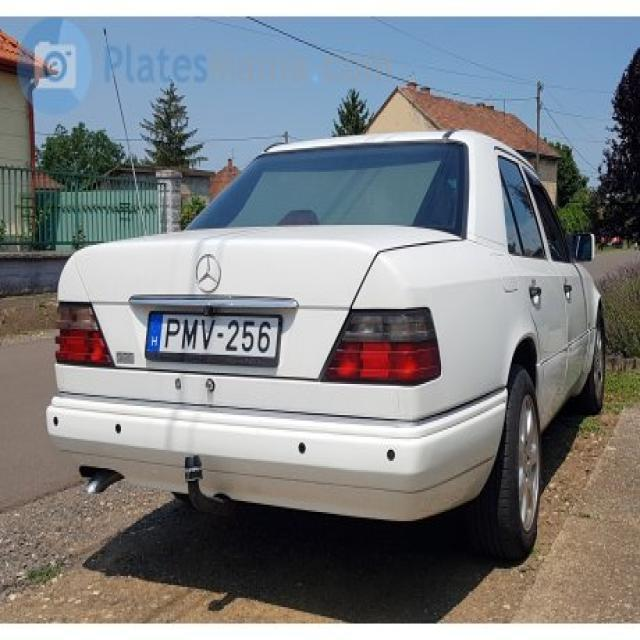licence: (144, 304, 281, 376)
